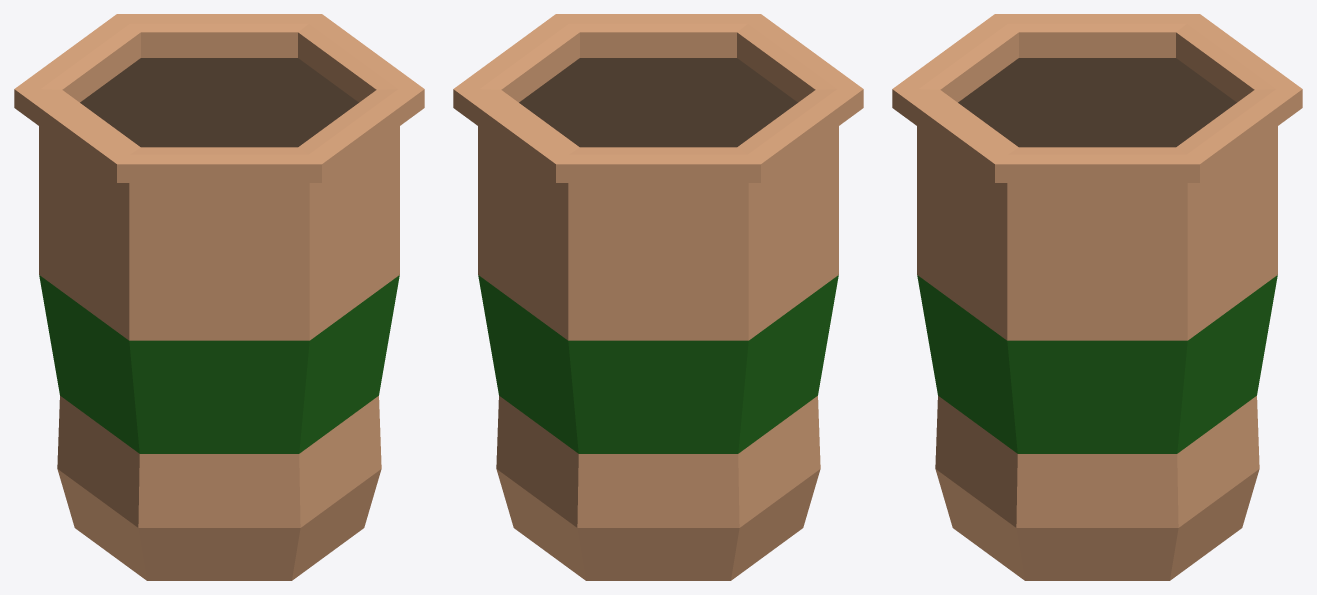
The model's file is kava.fbx.
3 renders of one model, left to right at view 1: azimuth 30°, elevation 25°; view 2: azimuth 150°, elevation 25°; view 3: azimuth 270°, elevation 25°, orthographic.
Visible parts, largest first — view 1: Circle; view 2: Circle; view 3: Circle.
Part boxes in pixels (x1,y1,x2,y2): Circle: (14, 14, 424, 580); Circle: (453, 14, 863, 580); Circle: (892, 14, 1302, 580).
Size of the model in its own units: 0.9714 by 1.32 by 1.12.
